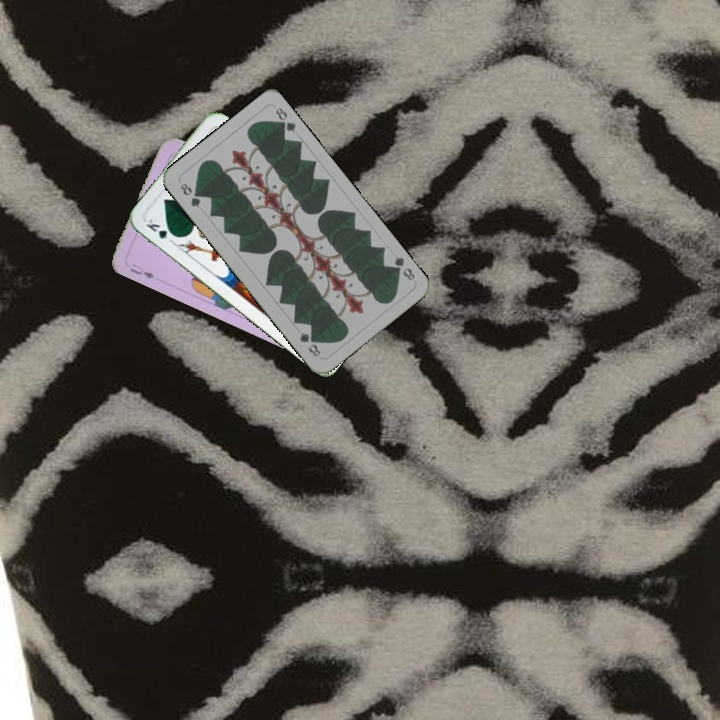EU: (126, 260, 157, 281)
G8: (387, 252, 418, 283), (176, 179, 203, 211)
GK: (142, 215, 179, 246)
